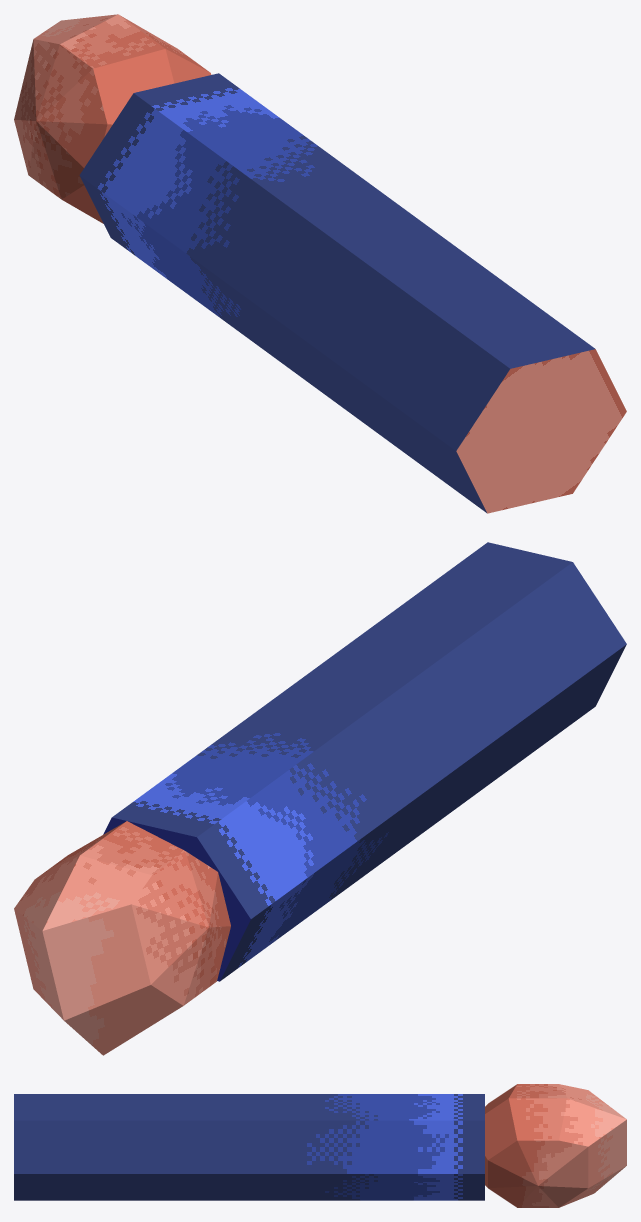
Rendered from Paw.glb.
3 views of the same model, one above another, from view 1: azimuth 30°, elevation 25°; view 2: azimuth 150°, elevation 25°; view 3: azimuth 270°, elevation 25° (orthographic). The views are drawn at different scales.
Visible parts, largest first — view 1: cylinder, sphere; view 2: cylinder, sphere; view 3: cylinder, sphere.
Part boxes in pixels (left/top/right/bottom): cylinder: left=79, top=73, right=626, bottom=513; sphere: left=14, top=14, right=211, bottom=223; cylinder: left=103, top=542, right=626, bottom=981; sphere: left=14, top=821, right=230, bottom=1055; cylinder: left=14, top=1094, right=484, bottom=1200; sphere: left=485, top=1084, right=626, bottom=1207.
Bounding box in the file's own units: 0.8686 × 0.8452 × 4.31.
Materials: 1 (1 with a texture image).
